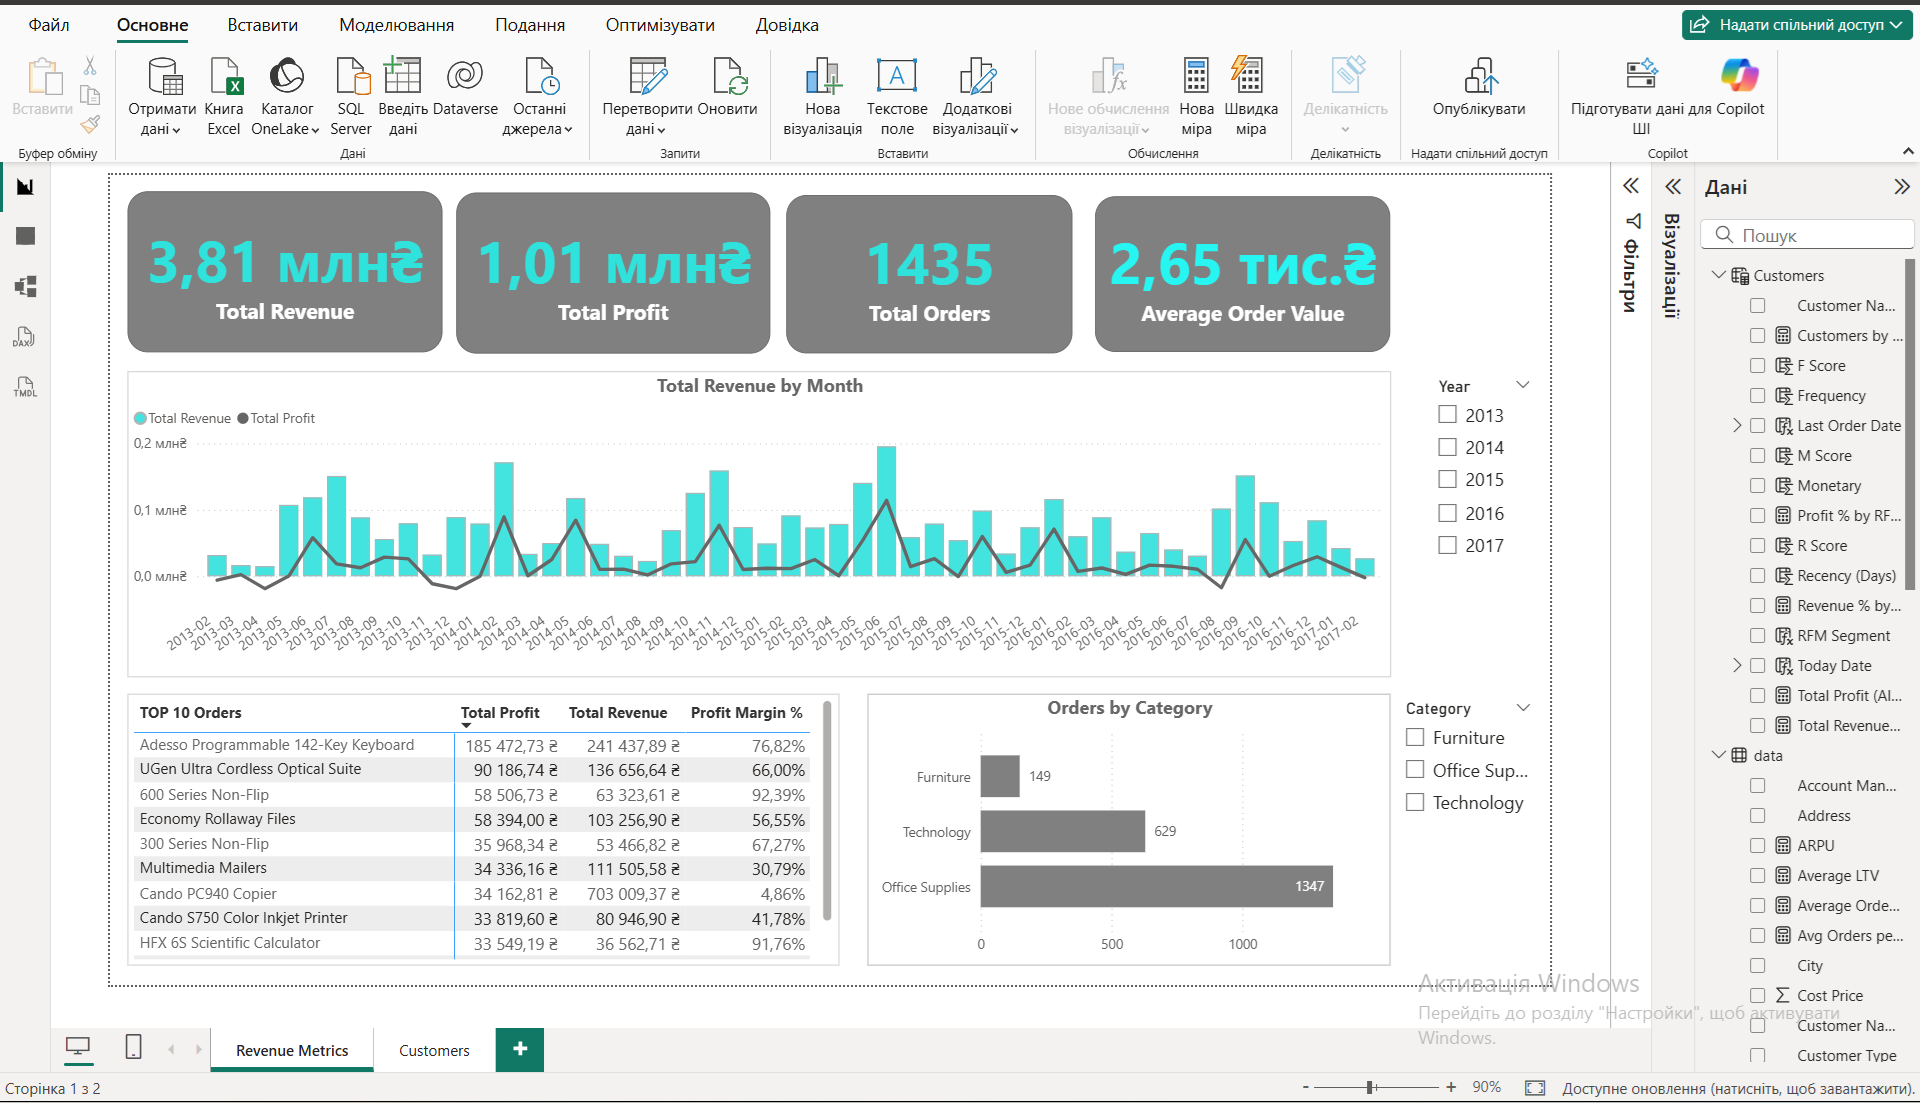

The dashboard page shown, as its layout file describes it:
{"tool":"powerbi","page":{"name":"Revenue Metrics","canvas":[1280,720],"ordinal":0},"visuals":[{"type":"card","fields":{"Values":["data.Total Revenue"]},"box":[15.1,14,280.2,143],"z":0},{"type":"lineStackedColumnComboChart","title":"Total Revenue by Month","fields":{"Category":["DateTable.Year-Month"],"Y":["data.Total Revenue"],"Y2":["data.Total Profit"]},"box":[15.1,174.4,1123.3,272.1],"z":1000},{"type":"card","fields":{"Values":["data.Total Orders"]},"box":[601.2,17.4,254.7,140.7],"z":2000},{"type":"card","fields":{"Values":["data.Total Profit"]},"box":[308.1,15.1,279.1,143],"z":3000},{"type":"pivotTable","title":"TOP 10 Orders","fields":{"Rows":["data.Product Name"],"Values":["data.Total Profit","data.Total Revenue","data.Profit Margin %"]},"box":[15.1,461.6,632.6,241.9],"z":4000},{"type":"barChart","title":"Orders by Category","fields":{"Category":["data.Product Category"],"Y":["data.Total Orders"]},"box":[673.3,461.6,465.1,241.9],"z":5000},{"type":"card","fields":{"Values":["data.Average Order Value"]},"box":[875.6,18.6,262.8,138.4],"z":6000},{"type":"slicer","fields":{"Values":["DateTable.Year"]},"box":[1167.4,174.4,107,272.1],"z":7000},{"type":"slicer","fields":{"Values":["data.Product Category"]},"box":[1138.4,461.6,136,241.9],"z":8000}]}

Visuals, with their boxes on the page's 1280x720 design canvas (x1, y1, x2, y2). These are canvas units, not pixel positions in the 1920x1103 screenshot, which may show the page scaled, cropped or inside an application window:
card - data.Total Revenue: x1=15, y1=14, x2=295, y2=157
"Total Revenue by Month" lineStackedColumnComboChart: x1=15, y1=174, x2=1138, y2=446
card - data.Total Orders: x1=601, y1=17, x2=856, y2=158
card - data.Total Profit: x1=308, y1=15, x2=587, y2=158
"TOP 10 Orders" pivotTable: x1=15, y1=462, x2=648, y2=704
"Orders by Category" barChart: x1=673, y1=462, x2=1138, y2=704
card - data.Average Order Value: x1=876, y1=19, x2=1138, y2=157
slicer - DateTable.Year: x1=1167, y1=174, x2=1274, y2=446
slicer - data.Product Category: x1=1138, y1=462, x2=1274, y2=704
